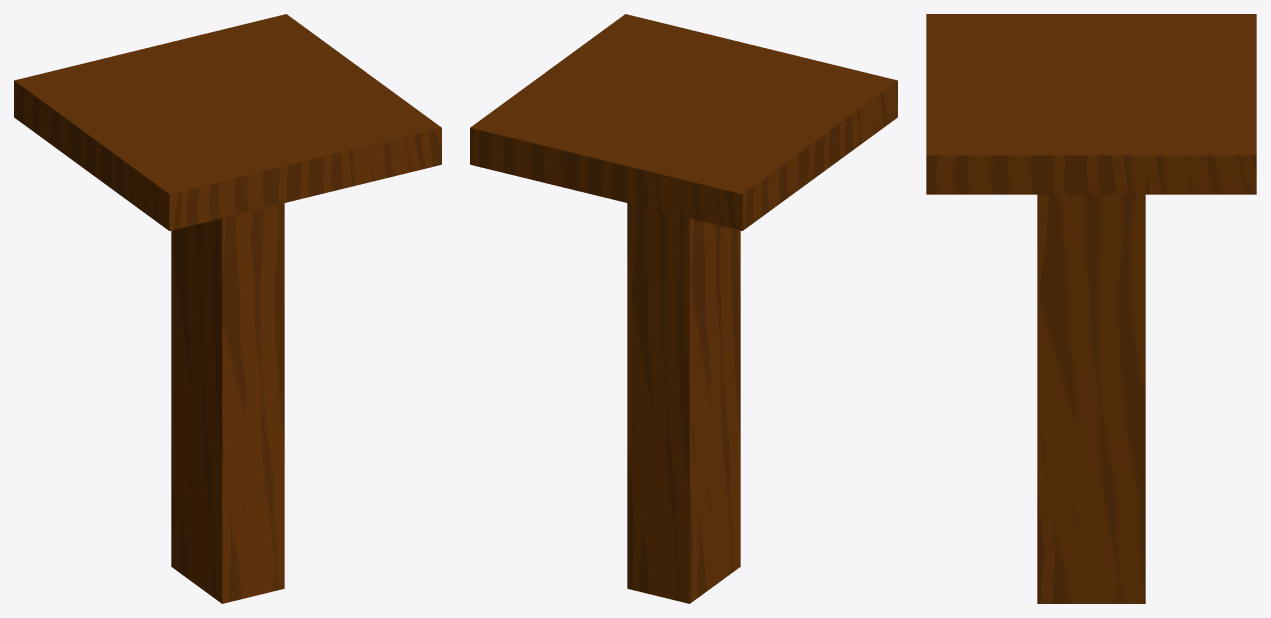
File: Level2-2-BottomPart.fbx
The picture shows the model from 3 angles, left to right: view 1: azimuth 30°, elevation 25°; view 2: azimuth 150°, elevation 25°; view 3: azimuth 270°, elevation 25°; orthographic projection. The views are drawn at different scales.
Parts seen in each view (by area): view 1: Cube; view 2: Cube; view 3: Cube.
Part boxes in pixels (box(x1,y1,x2,y2)): Cube: box(14, 14, 441, 603); Cube: box(470, 14, 897, 603); Cube: box(926, 14, 1256, 603).
Bounding box in the file's own units: 622 × 1034 × 615.
